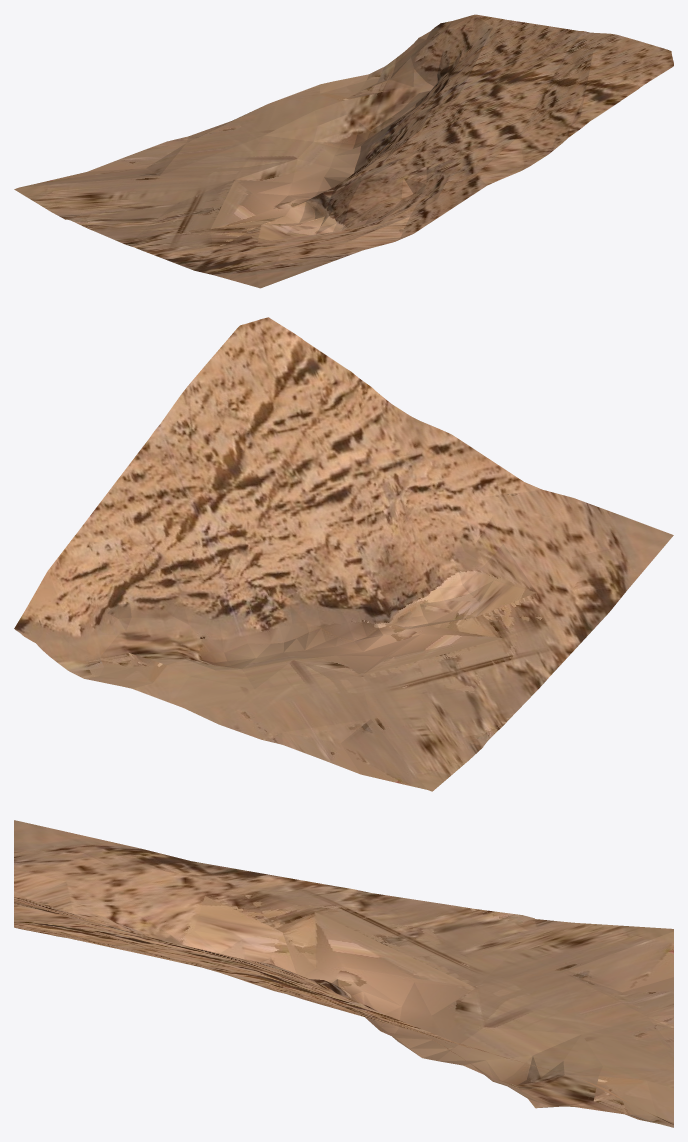
3 renders of one model, top to bottom at view 1: azimuth 30°, elevation 25°; view 2: azimuth 150°, elevation 25°; view 3: azimuth 270°, elevation 25°, orthographic. The views are drawn at different scales.
Size of the model in its own units: 1.04 by 0.4749 by 1.04.
Materials: 3 (3 with a texture image).
